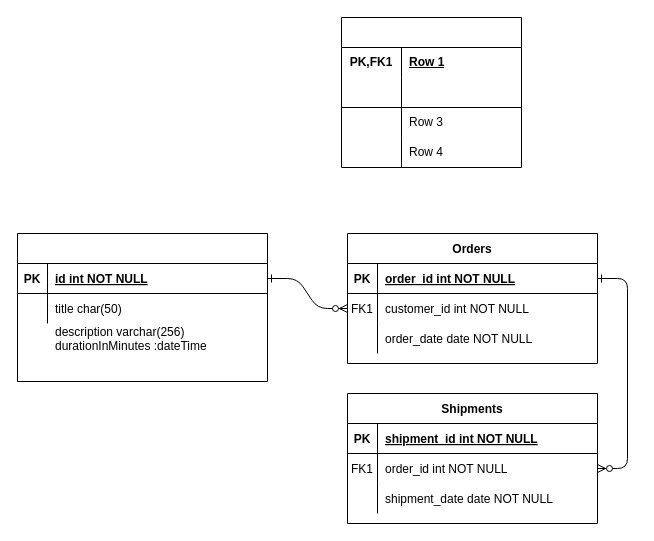
Image size: 654x541. Some labels were removed from this diagram. The box of each missing label's shape, as (x1, y1, x2, y2) in pixels:
Movie: (16, 232, 268, 382)
Table: (340, 16, 522, 168)
